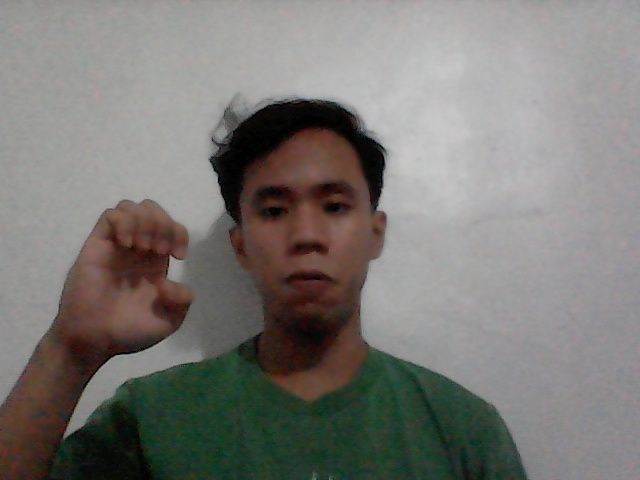E: (31, 172, 224, 394)
